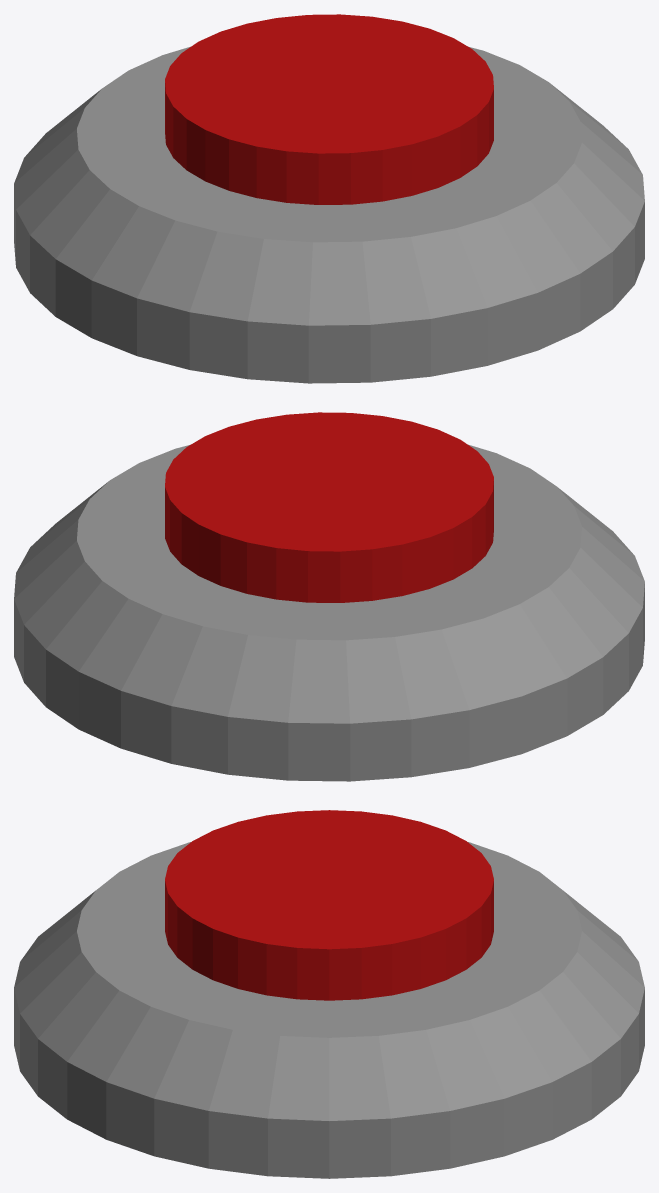
Rendered from mine.fbx.
3 views of the same model, one above another, from view 1: azimuth 30°, elevation 25°; view 2: azimuth 150°, elevation 25°; view 3: azimuth 270°, elevation 25° (orthographic).
Parts seen in each view (by area): view 1: Cylinder, Cylinder.001; view 2: Cylinder, Cylinder.001; view 3: Cylinder, Cylinder.001.
Part boxes in pixels (<box>): Cylinder: <box>14,46,644,383</box>; Cylinder.001: <box>165,14,493,204</box>; Cylinder: <box>14,444,644,781</box>; Cylinder.001: <box>165,412,493,602</box>; Cylinder: <box>14,842,644,1178</box>; Cylinder.001: <box>165,810,493,1000</box>.
Size of the model in its own units: 200 by 58 by 200.
